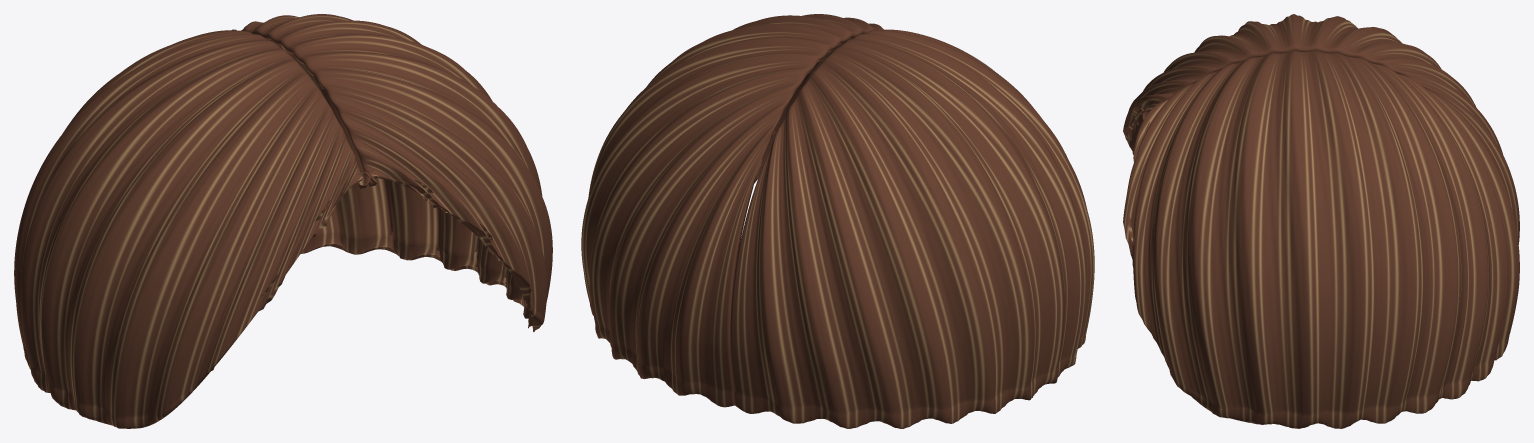
File: Highlights-fdc2eea04f66252-hair.glb
The picture shows the model from 3 angles, left to right: view 1: azimuth 30°, elevation 25°; view 2: azimuth 150°, elevation 25°; view 3: azimuth 270°, elevation 25°; orthographic projection. The views are drawn at different scales.
Visible parts, largest first — view 1: 226 hair / Hair252 / flowing sculpt middle; view 2: 226 hair / Hair252 / flowing sculpt middle; view 3: 226 hair / Hair252 / flowing sculpt middle.
Part boxes in pixels (box(x1,y1,x2,y2)): 226 hair / Hair252 / flowing sculpt middle: box(14, 14, 552, 428); 226 hair / Hair252 / flowing sculpt middle: box(581, 14, 1094, 428); 226 hair / Hair252 / flowing sculpt middle: box(1123, 14, 1519, 428).
Size of the model in its own units: 1.06 by 0.6587 by 0.8322.
Materials: 1 (1 with a texture image).
